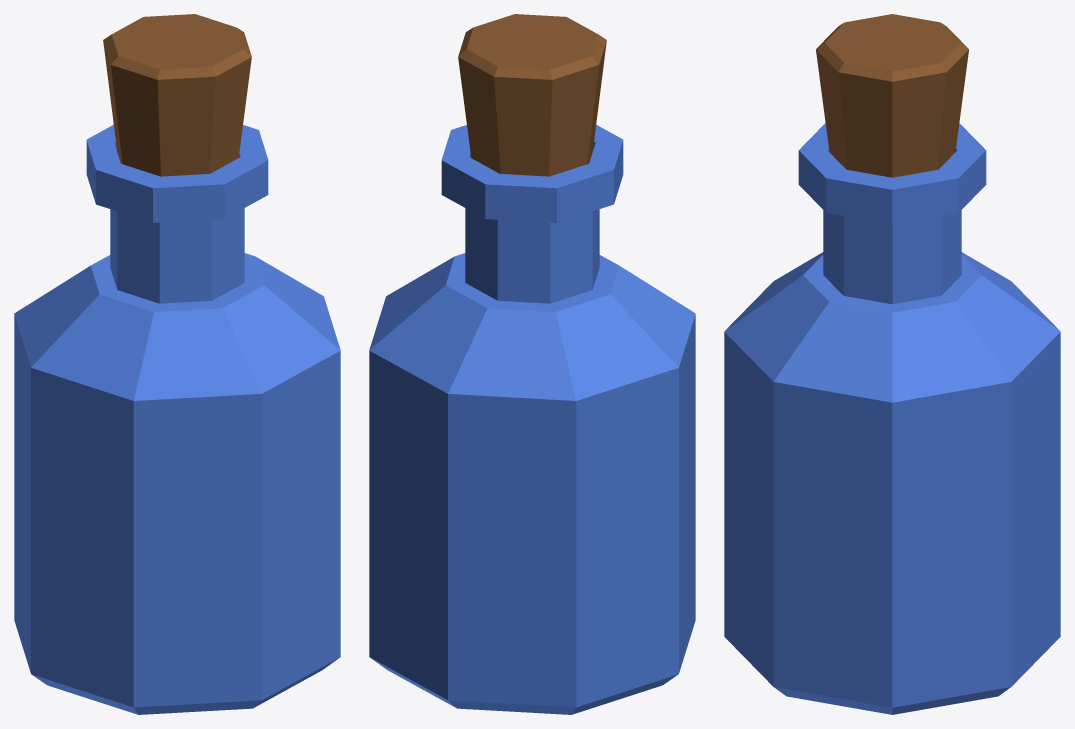
File: tincture_bottle.glb
The picture shows the model from 3 angles, left to right: view 1: azimuth 30°, elevation 25°; view 2: azimuth 150°, elevation 25°; view 3: azimuth 270°, elevation 25°; orthographic projection.
Parts seen in each view (by area): view 1: Cylinder; view 2: Cylinder; view 3: Cylinder.
Part boxes in pixels (x1,y1,x2,y2): Cylinder: (14, 14, 340, 714); Cylinder: (369, 14, 695, 714); Cylinder: (724, 14, 1060, 714).
Bounding box in the file's own units: 0.0861 × 0.1718 × 0.0861.
